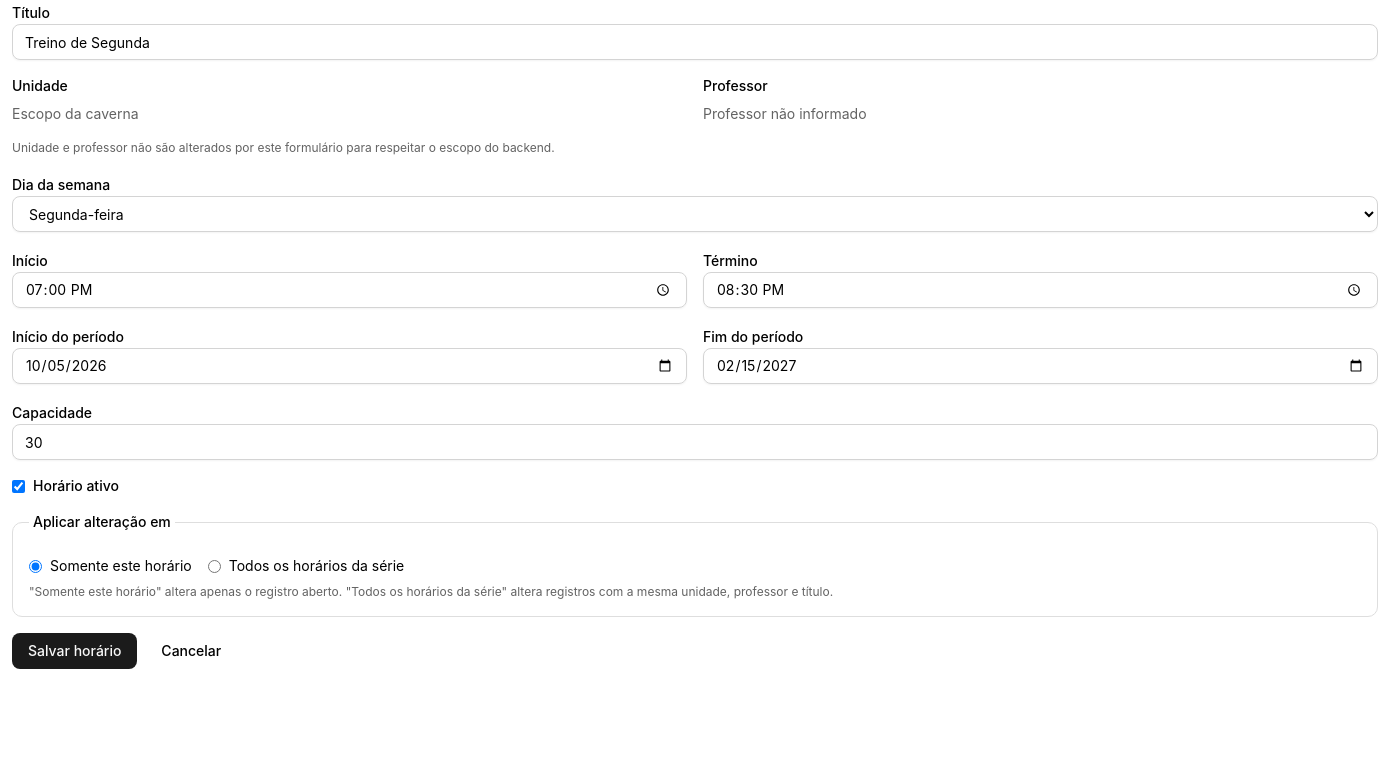
Scenario: ScheduleForm › updates the whole series when scope "all" is selected
Later steps or results of the test are not shown.
Expected: the text "altera apenas o registro aberto" is shown, [29,584,833,599]
Click the radio button labelled "Todos os horários da série". click: (214, 566)
box: [208,560,221,572]
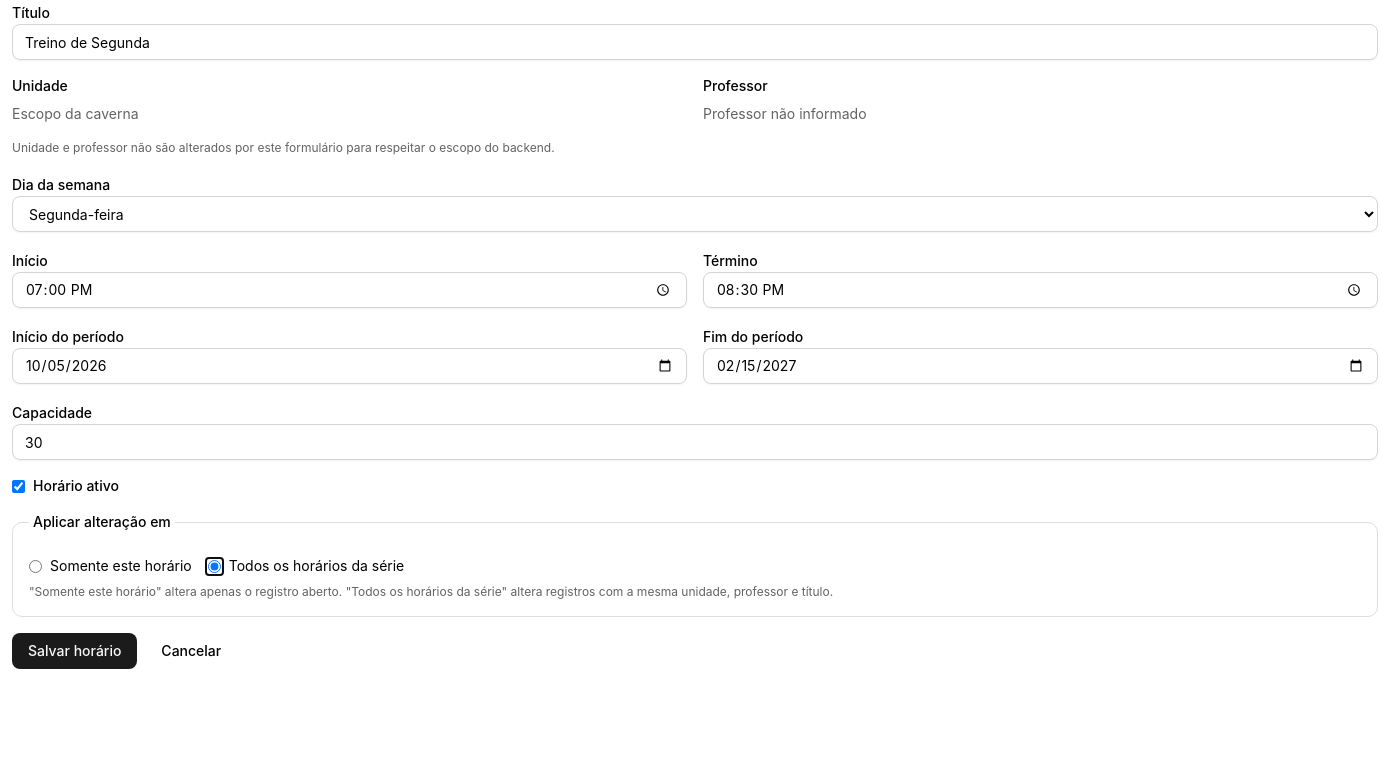
Now the radio button labelled "Todos os horários da série" is checked, box [208,560,221,572]
